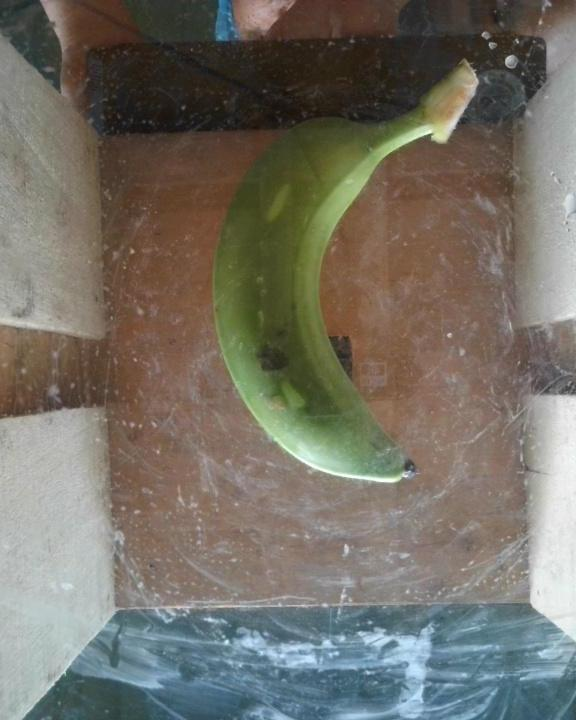CLASS B: (204, 56, 493, 494)
Class A: (247, 335, 295, 382)
